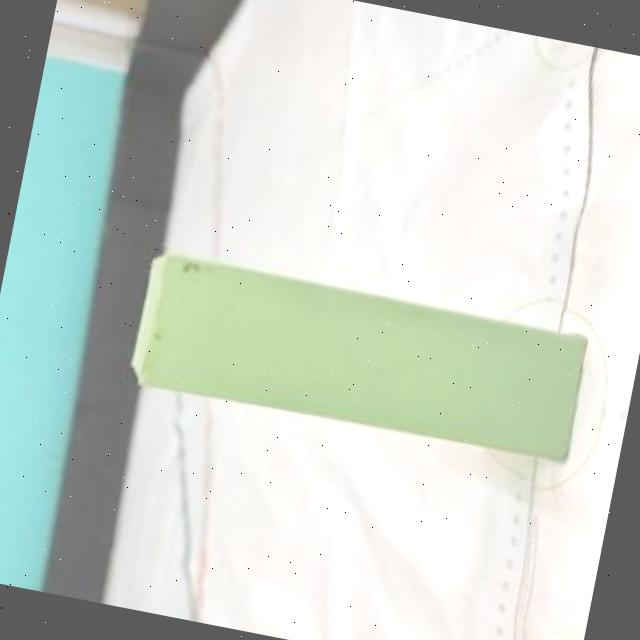greenbox: (128, 248, 589, 462)
